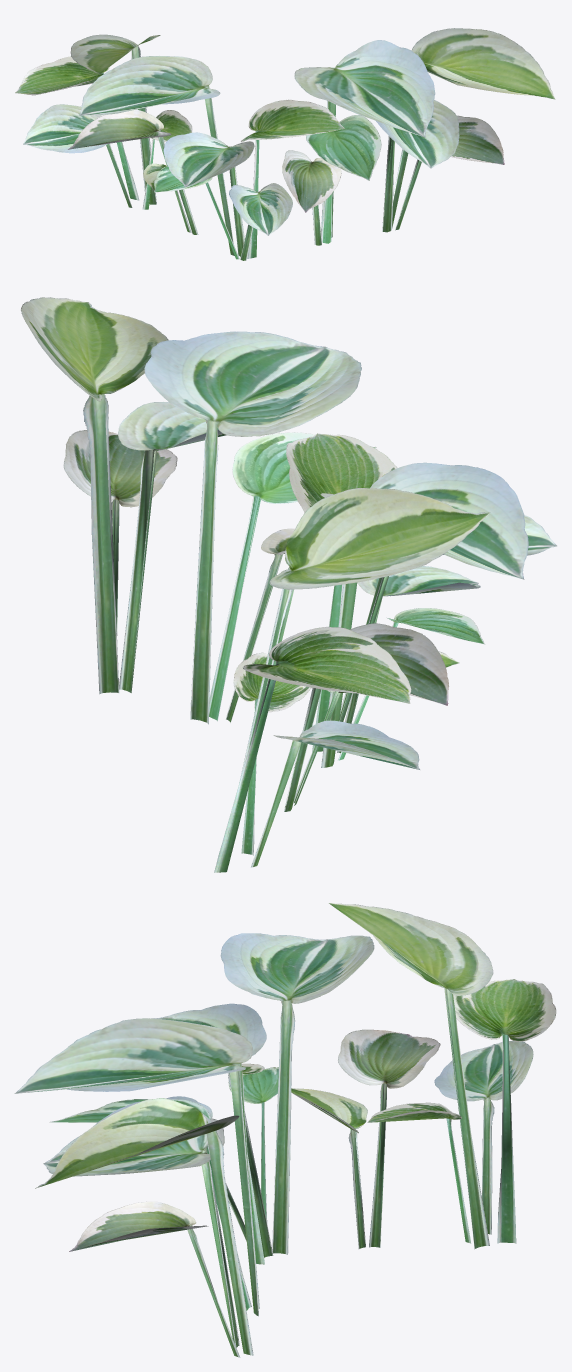
File: plant_small_wg_00_o-corner00.fbx
3 renders of one model, top to bottom at view 1: azimuth 30°, elevation 25°; view 2: azimuth 150°, elevation 25°; view 3: azimuth 270°, elevation 25°, orthographic. The views are drawn at different scales.
Visible parts, largest first — view 1: plant_small_wg_00_o-corner00; view 2: plant_small_wg_00_o-corner00; view 3: plant_small_wg_00_o-corner00.
Boxes of the visible parts, x1,y1,x2,y2 form: plant_small_wg_00_o-corner00: (15,28,555,260); plant_small_wg_00_o-corner00: (21,297,556,872); plant_small_wg_00_o-corner00: (14,903,556,1357).
Bounding box in the file's own units: 75.03 × 39.2 × 65.94.
1 material, 1 textured.
